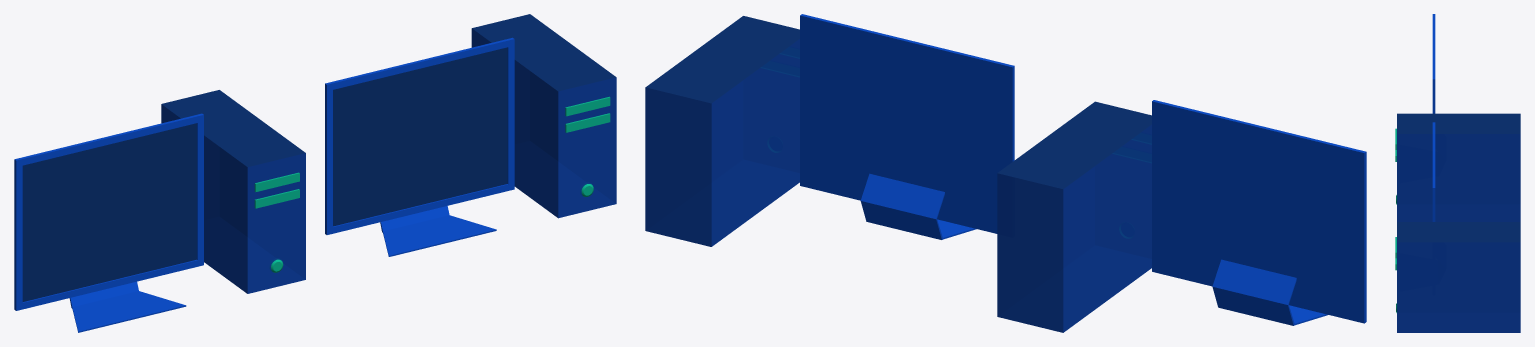
Rendered from assets.FBX.
The picture shows the model from 3 angles, left to right: view 1: azimuth 30°, elevation 25°; view 2: azimuth 150°, elevation 25°; view 3: azimuth 270°, elevation 25°; orthographic projection. The views are drawn at different scales.
Parts seen in each view (by area): view 1: 对象404, 对象386, 操作员站组, 对象400, 对象389, 对象401, 对象391, 对象387, 对象403, 对象402, 对象388; view 2: 操作员站组, 对象400, 对象389, 对象391, 对象401; view 3: 对象400, 对象389, 对象401, 对象391, 操作员站组.
Part boxes in pixels (x1,y1,x2,y2): 对象404: (333,47,507,226); 对象386: (22,123,196,301); 操作员站组: (14,37,514,332); 对象400: (471,28,616,218); 对象389: (161,104,305,293); 对象401: (472,14,615,91); 对象391: (161,90,305,166); 对象387: (254,189,299,208); 对象403: (565,96,610,116); 对象402: (565,113,610,132); 对象388: (254,172,299,191); 操作员站组: (800,14,1366,325); 对象400: (645,39,799,246); 对象389: (997,124,1151,332); 对象391: (997,101,1151,189); 对象401: (646,16,799,103); 对象400: (1397,242,1520,332); 对象389: (1397,134,1520,221); 对象401: (1397,222,1520,242); 对象391: (1397,113,1520,133); 操作员站组: (1432,14,1435,221).
Bounding box in the file's own units: 2421 × 666 × 637.
